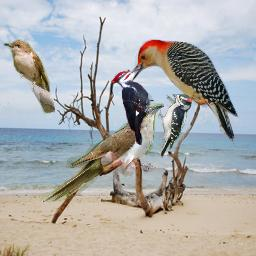Cuckoo: (39, 103, 164, 202), (3, 39, 55, 114)
Woodpecker: (128, 39, 240, 145), (111, 68, 154, 145), (158, 92, 192, 158)
